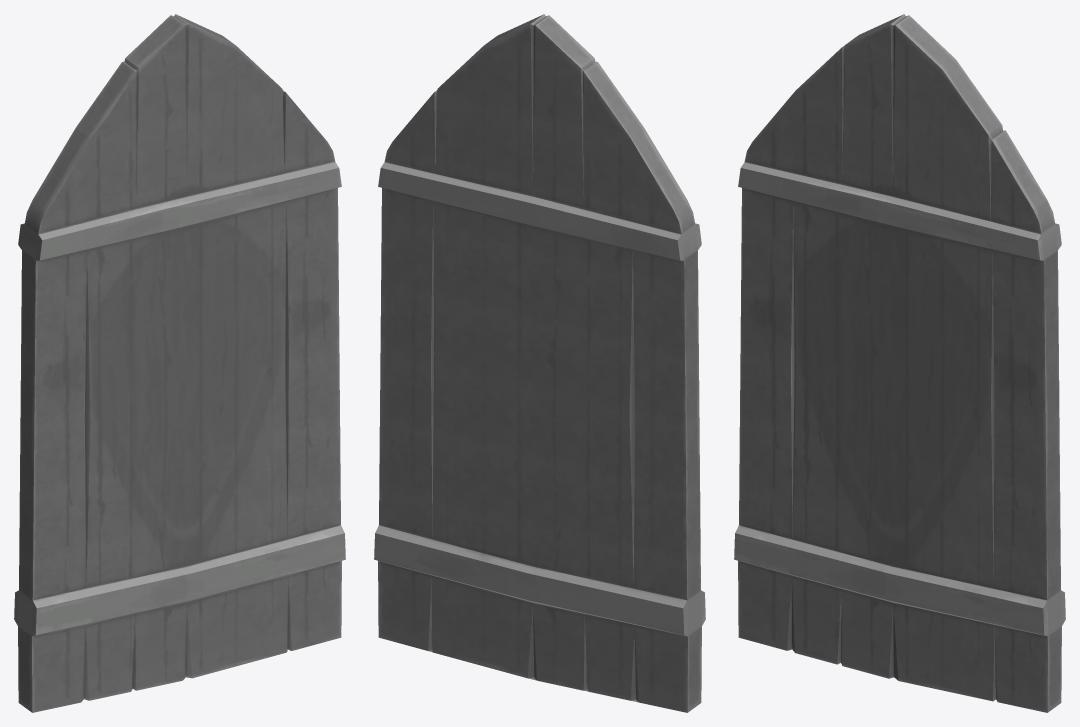
Rendered from SpawnDoor.fbx.
The picture shows the model from 3 angles, left to right: view 1: azimuth 30°, elevation 25°; view 2: azimuth 150°, elevation 25°; view 3: azimuth 330°, elevation 25°; orthographic projection.
Visible parts, largest first — view 1: MetalRim; view 2: MetalRim; view 3: MetalRim.
Part boxes in pixels (<box>): MetalRim: <box>14,14,345,712</box>; MetalRim: <box>374,14,705,712</box>; MetalRim: <box>734,14,1065,712</box>.
Bounding box in the file's own units: 476 × 960 × 57.56.
